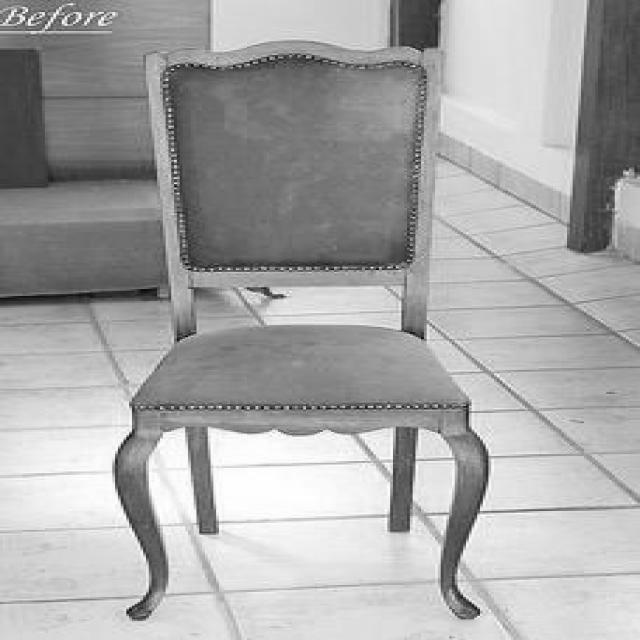chair: (108, 38, 496, 624)
